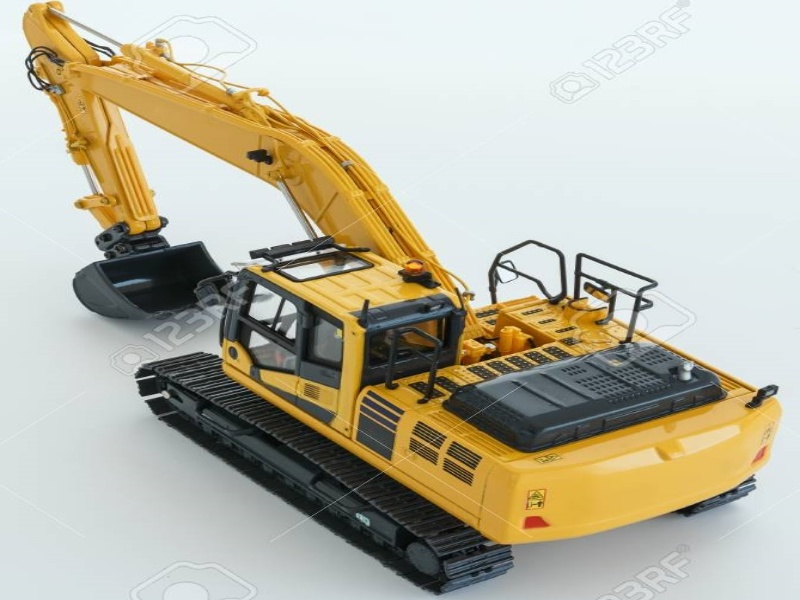wajueji: (115, 158, 799, 599)
